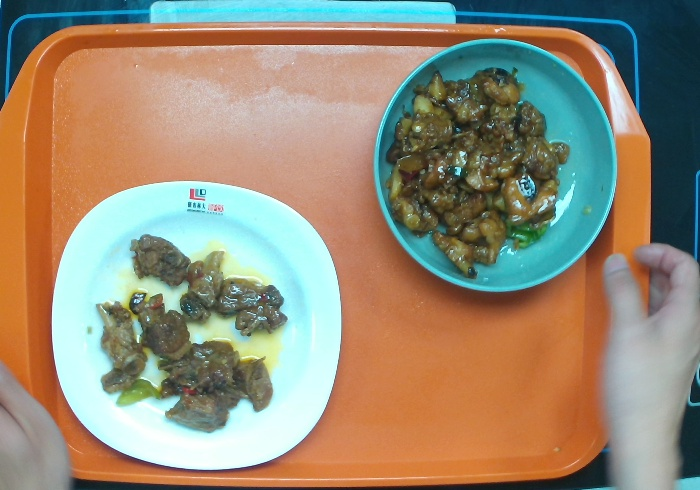ZNLD-Qing_Hua_Yuan_Wan: (374, 37, 620, 294)
ZNLD-Yuan_Jiao_Pan: (45, 175, 340, 469)
